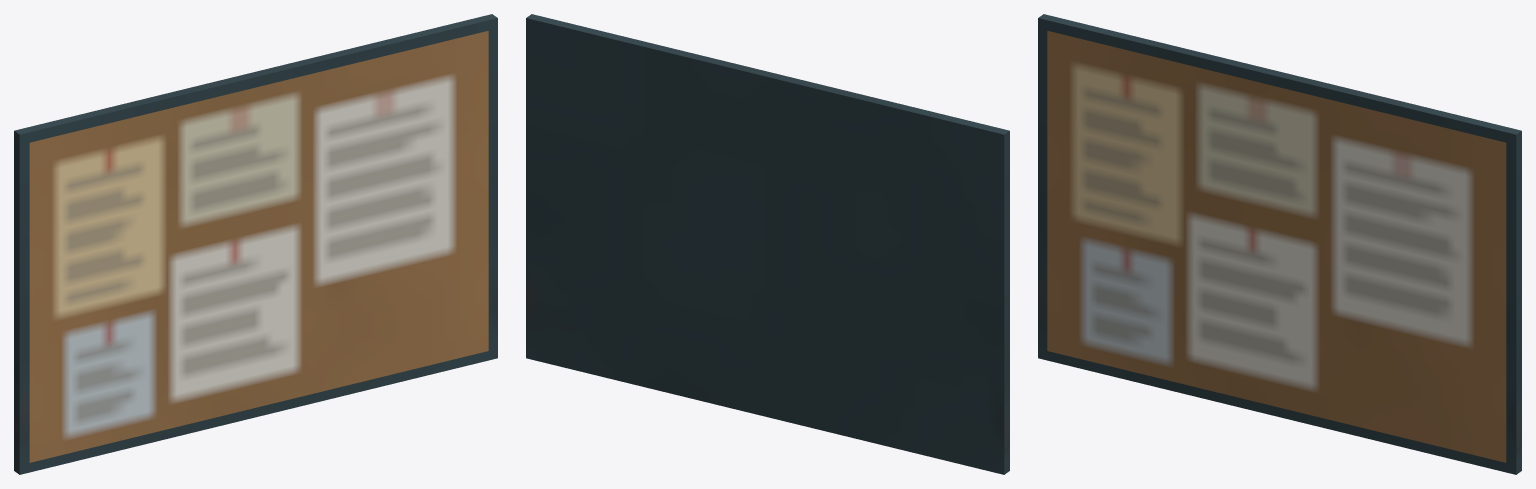
The model's file is notice_board_prison.fbx.
The picture shows the model from 3 angles, left to right: view 1: azimuth 30°, elevation 25°; view 2: azimuth 150°, elevation 25°; view 3: azimuth 330°, elevation 25°; orthographic projection.
Visible parts, largest first — view 1: notice_board_prison; view 2: notice_board_prison; view 3: notice_board_prison.
Boxes of the visible parts, x1,y1,x2,y2 form: notice_board_prison: [14, 14, 497, 474]; notice_board_prison: [526, 14, 1009, 474]; notice_board_prison: [1038, 14, 1521, 474].
Size of the model in its own units: 1.25 by 0.85 by 0.027.
1 material, 1 textured.
